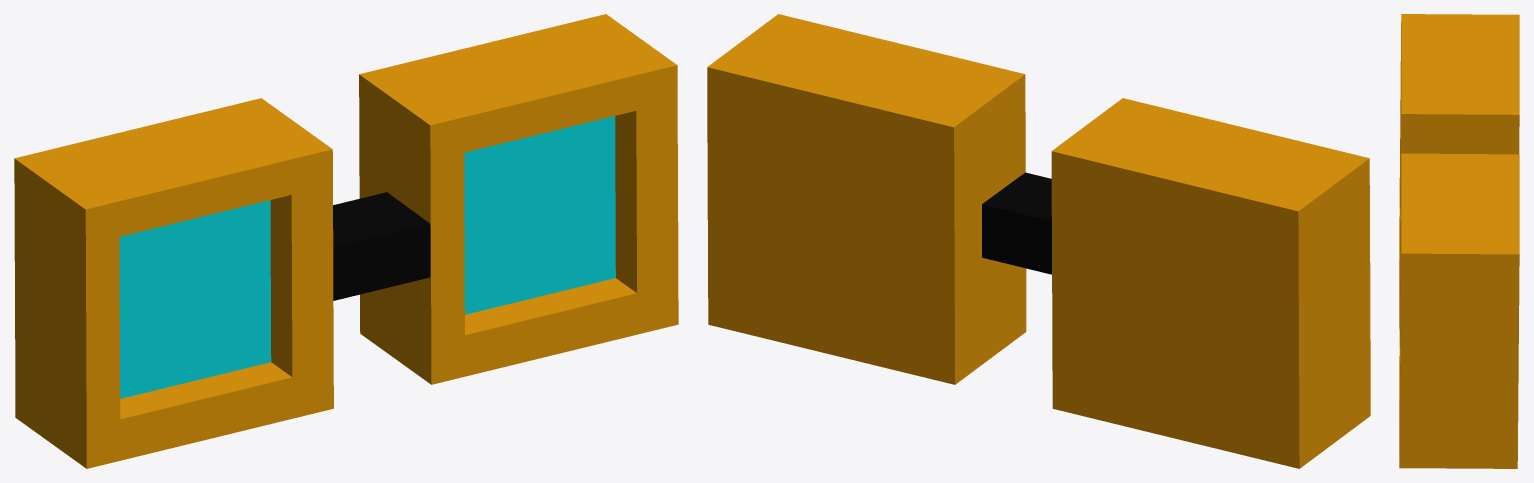
The model's file is Goggles.fbx.
3 views of the same model, side by side, from view 1: azimuth 30°, elevation 25°; view 2: azimuth 150°, elevation 25°; view 3: azimuth 270°, elevation 25° (orthographic). The views are drawn at different scales.
Visible parts, largest first — view 1: pCube1, pCube4, pCube3; view 2: pCube1, pCube4, pCube3; view 3: pCube4, pCube1.
Boxes of the visible parts, x1,y1,x2,y2 form: pCube1: (14,98,333,468); pCube4: (359,14,678,384); pCube3: (333,192,430,300); pCube1: (1051,98,1370,468); pCube4: (707,14,1026,384); pCube3: (982,172,1051,274); pCube4: (1399,153,1519,468); pCube1: (1399,14,1519,328).
Size of the model in its own units: 4.79 by 2.01 by 1.02.
